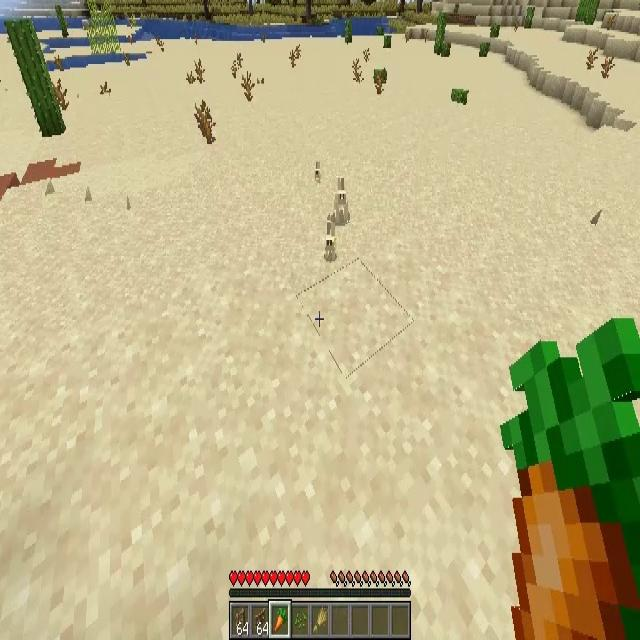rabbit: (330, 178, 350, 223), (323, 220, 336, 262)
